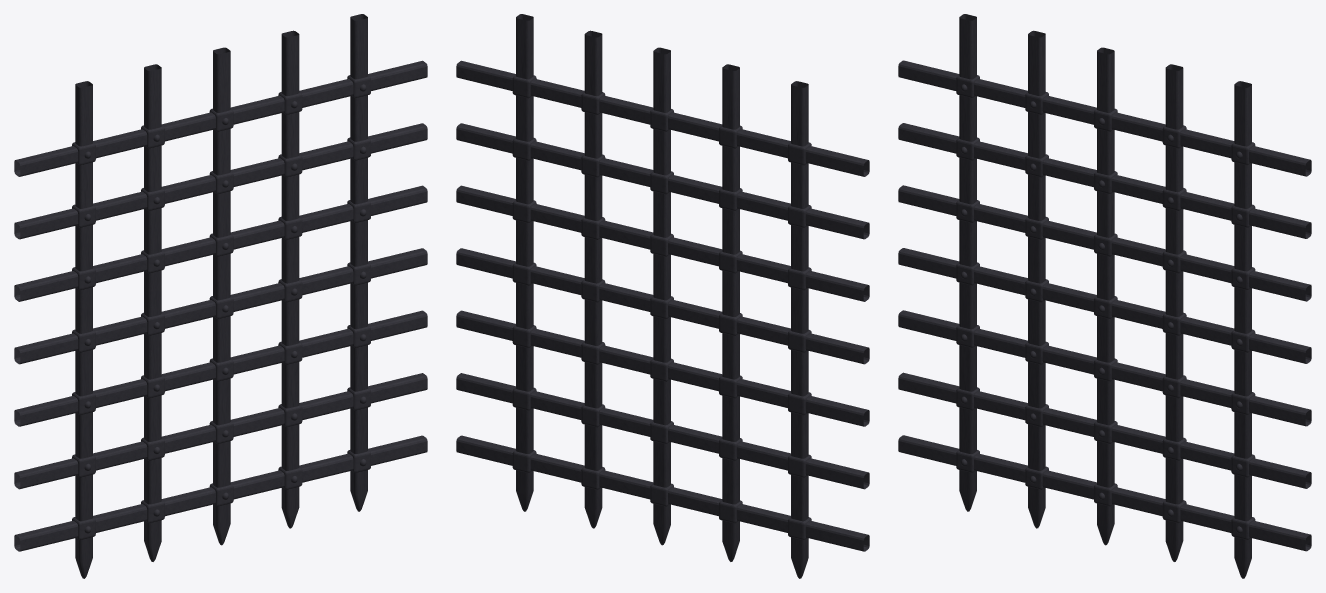
Rendered from Portcullis.fbx.
3 views of the same model, side by side, from view 1: azimuth 30°, elevation 25°; view 2: azimuth 150°, elevation 25°; view 3: azimuth 330°, elevation 25° (orthographic).
Parts seen in each view (by area): view 1: Gate Portcullis; view 2: Gate Portcullis; view 3: Gate Portcullis.
Part boxes in pixels (box(x1,y1,x2,y2)): Gate Portcullis: box(14, 14, 427, 578); Gate Portcullis: box(456, 14, 869, 578); Gate Portcullis: box(898, 14, 1311, 578).
Size of the model in its own units: 360 by 417 by 14.49.
